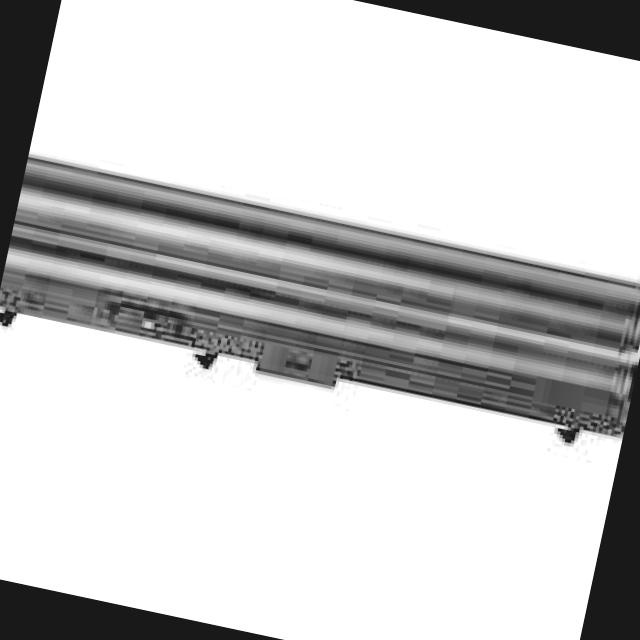Battery: (0, 150, 640, 435)
